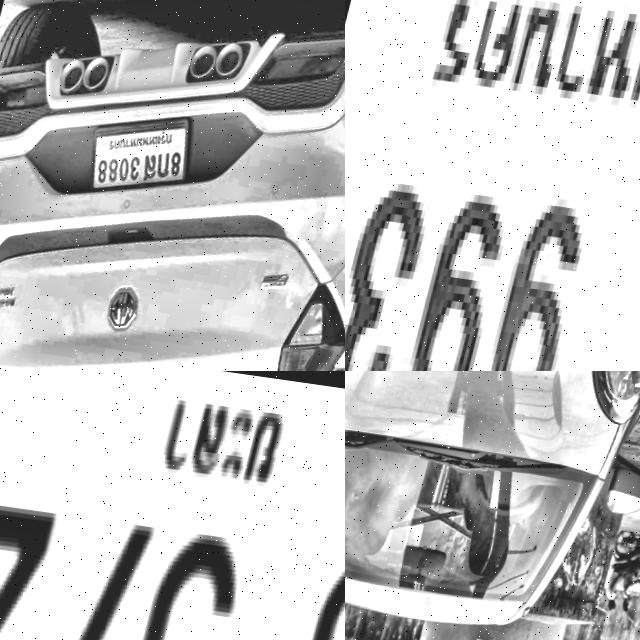license-plate: (345, 0, 640, 371), (0, 371, 345, 640), (84, 108, 207, 206)
